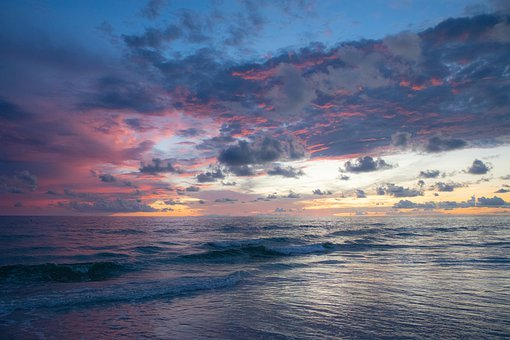sea: (9, 214, 508, 340)
sky: (4, 4, 510, 216)
